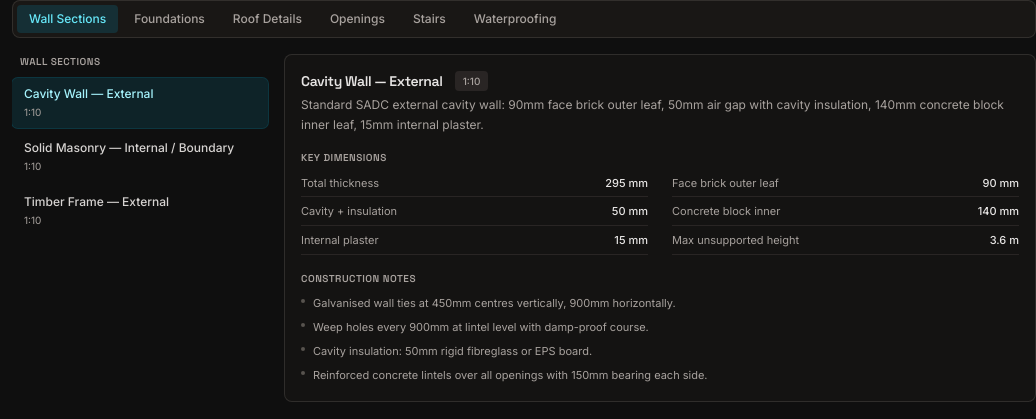
Test: DetailsBrowser › switching category changes detail list
Click the button "Foundations" at (170, 19), box [122,5,217,33]
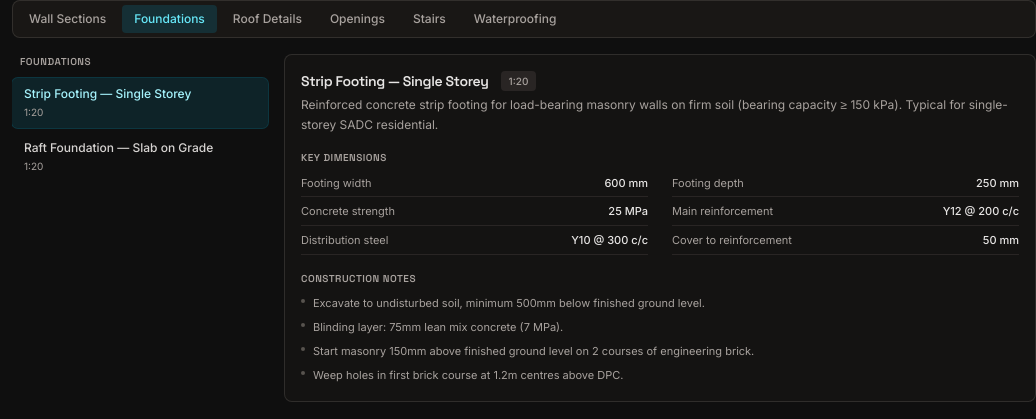
Now the button "Cavity Wall — External" is gone
